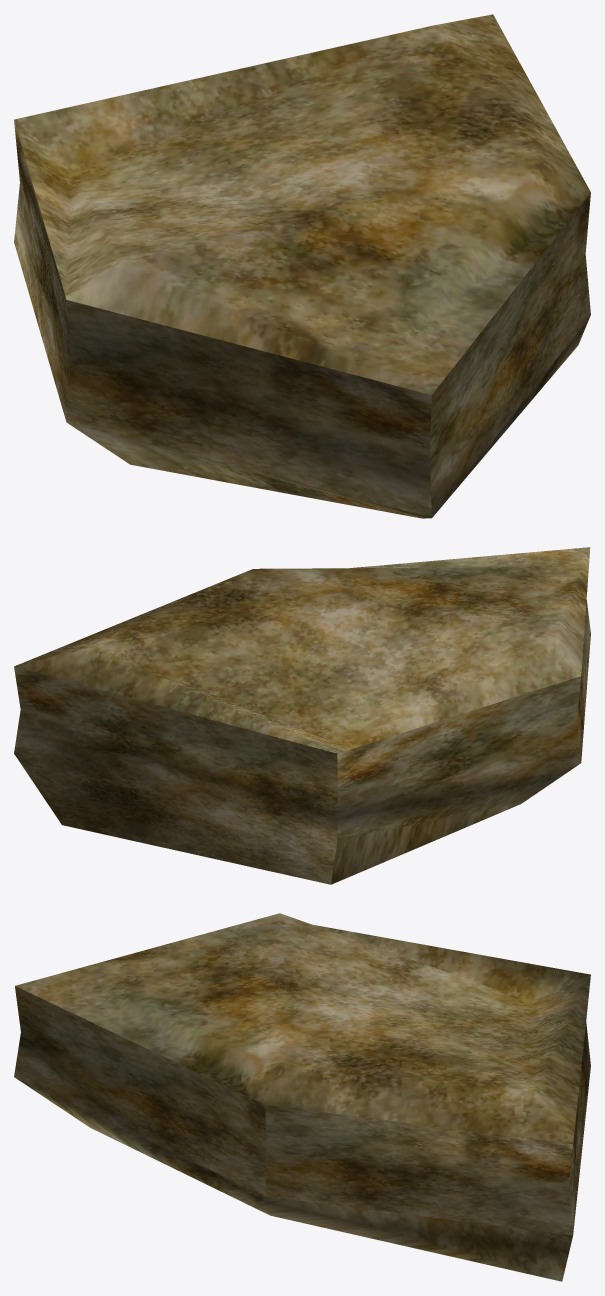
The model's file is TROLLHOLE02_RM_FALL_ROCK05.fbx.
3 views of the same model, one above another, from view 1: azimuth 30°, elevation 25°; view 2: azimuth 150°, elevation 25°; view 3: azimuth 270°, elevation 25° (orthographic). The views are drawn at different scales.
Visible parts, largest first — view 1: TROLLHOLE02_RM_FALL_ROCK05; view 2: TROLLHOLE02_RM_FALL_ROCK05; view 3: TROLLHOLE02_RM_FALL_ROCK05.
Boxes of the visible parts, x1,y1,x2,y2 form: TROLLHOLE02_RM_FALL_ROCK05: [14, 14, 590, 518]; TROLLHOLE02_RM_FALL_ROCK05: [14, 547, 590, 884]; TROLLHOLE02_RM_FALL_ROCK05: [14, 913, 590, 1281].
Bounding box in the file's own units: 15691 × 7153 × 17188.
1 material, 1 textured.
